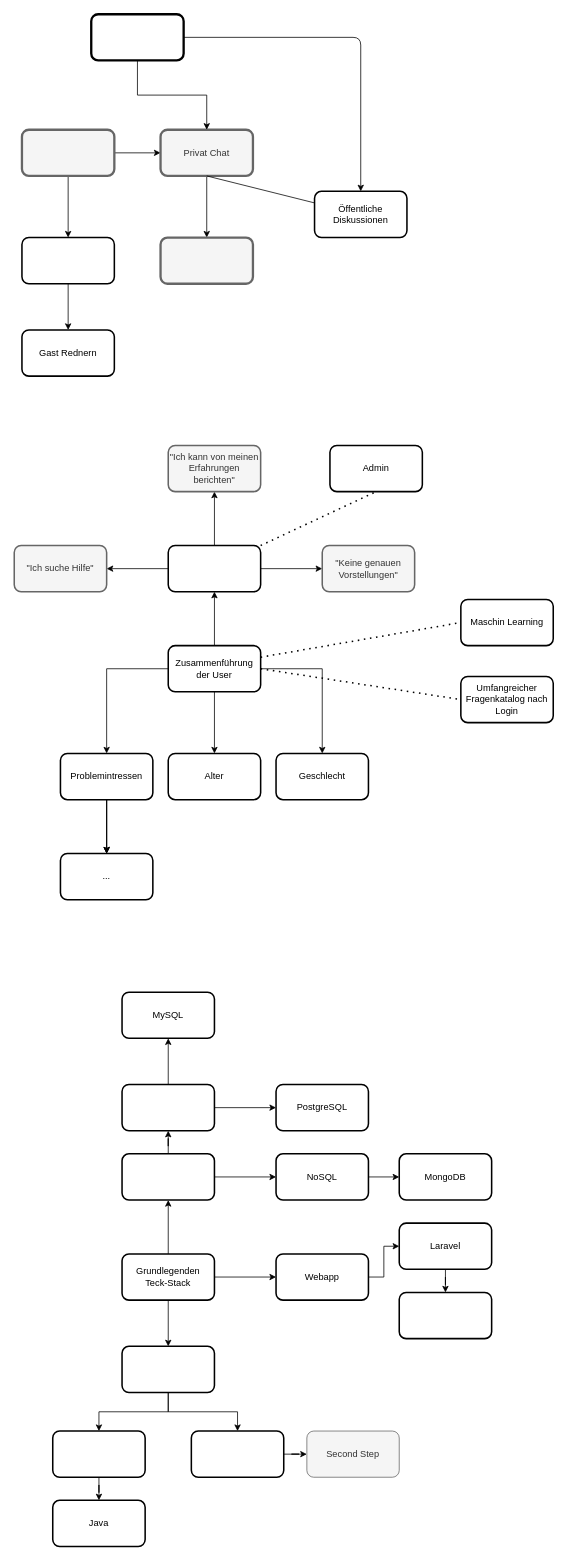
Some shapes in this 567 by 1561 pixel diagram are drawn without their labels. The centre of each missing label's shape, as x and y in pixels:
Android: [99,1454]
App (mobile): [168,1369]
Chat Funktion: [67,152]
Datenbanken: [168,1176]
Export Electron: [445,1315]
Gruppenchat: [68,260]
Hauptmenüpunkte Tabs: [137,37]
IOS: [237,1454]
Machtes: [206,260]
SQL: [168,1107]
Usergruppen: [214,568]
